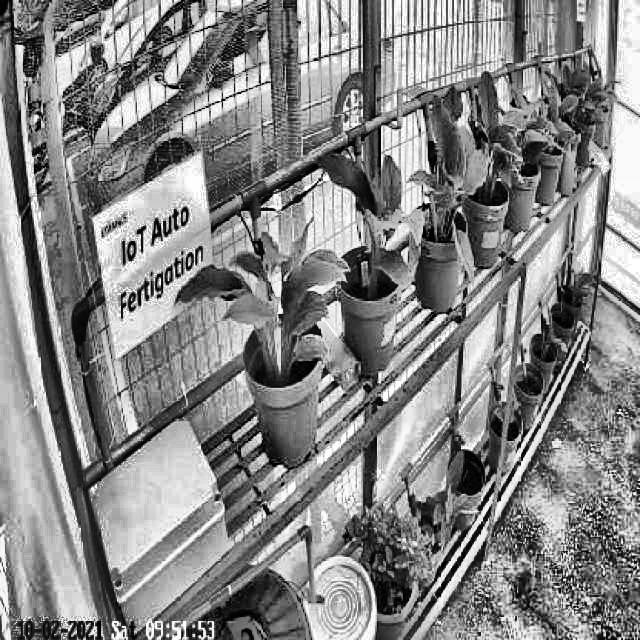plants: (177, 219, 351, 372), (318, 140, 427, 288), (405, 86, 478, 282), (455, 72, 537, 200)
